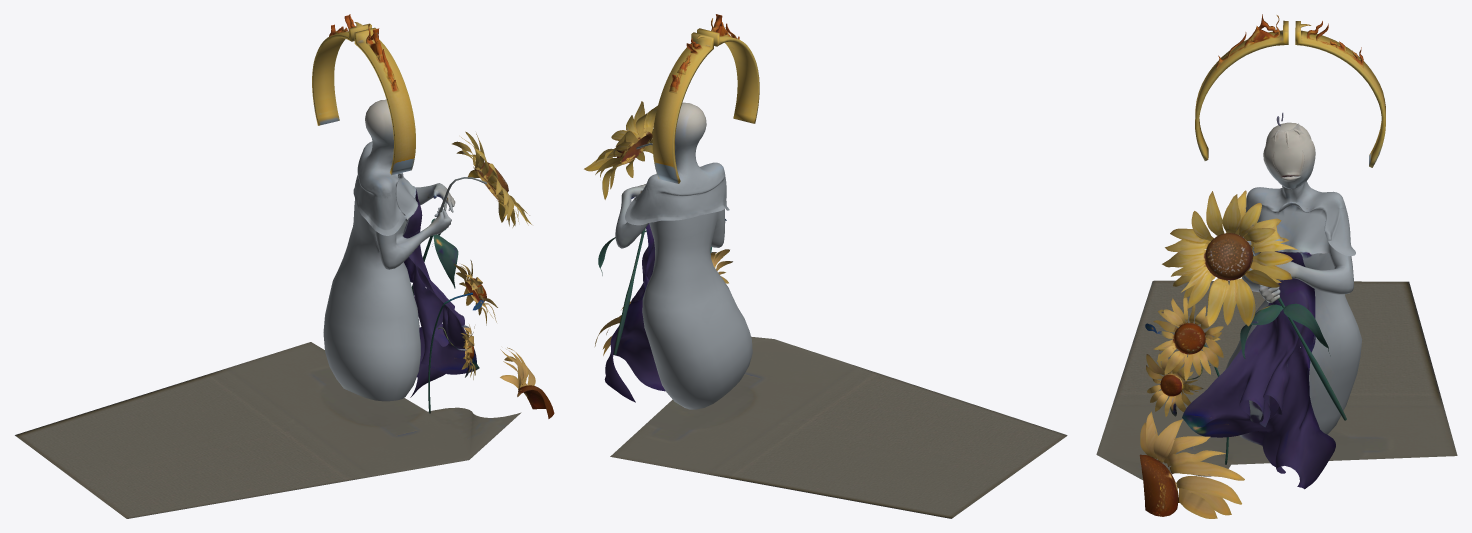
File: sun.glb
3 renders of one model, left to right at view 1: azimuth 30°, elevation 25°; view 2: azimuth 150°, elevation 25°; view 3: azimuth 270°, elevation 25°, orthographic. The views are drawn at different scales.
Visible parts, largest first — view 1: tripo_node_f39f1b3f-2c82-4de2-a048-a2950c0a540c; view 2: tripo_node_f39f1b3f-2c82-4de2-a048-a2950c0a540c; view 3: tripo_node_f39f1b3f-2c82-4de2-a048-a2950c0a540c.
Boxes of the visible parts, box(x1,y1,x2,y2) form: tripo_node_f39f1b3f-2c82-4de2-a048-a2950c0a540c: box(15, 14, 554, 518); tripo_node_f39f1b3f-2c82-4de2-a048-a2950c0a540c: box(584, 14, 1067, 518); tripo_node_f39f1b3f-2c82-4de2-a048-a2950c0a540c: box(1096, 14, 1457, 518).
Bounding box in the file's own units: 1 × 0.8413 × 0.6411.
Materials: 1 (1 with a texture image).
